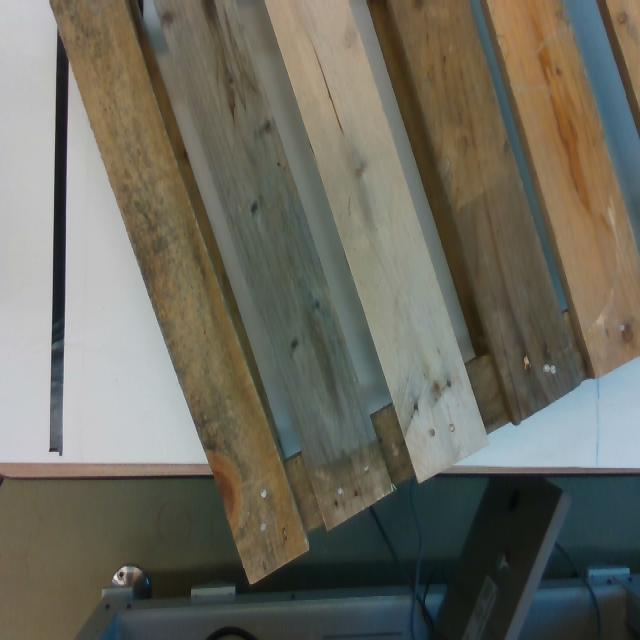pallet: (56, 0, 640, 580)
